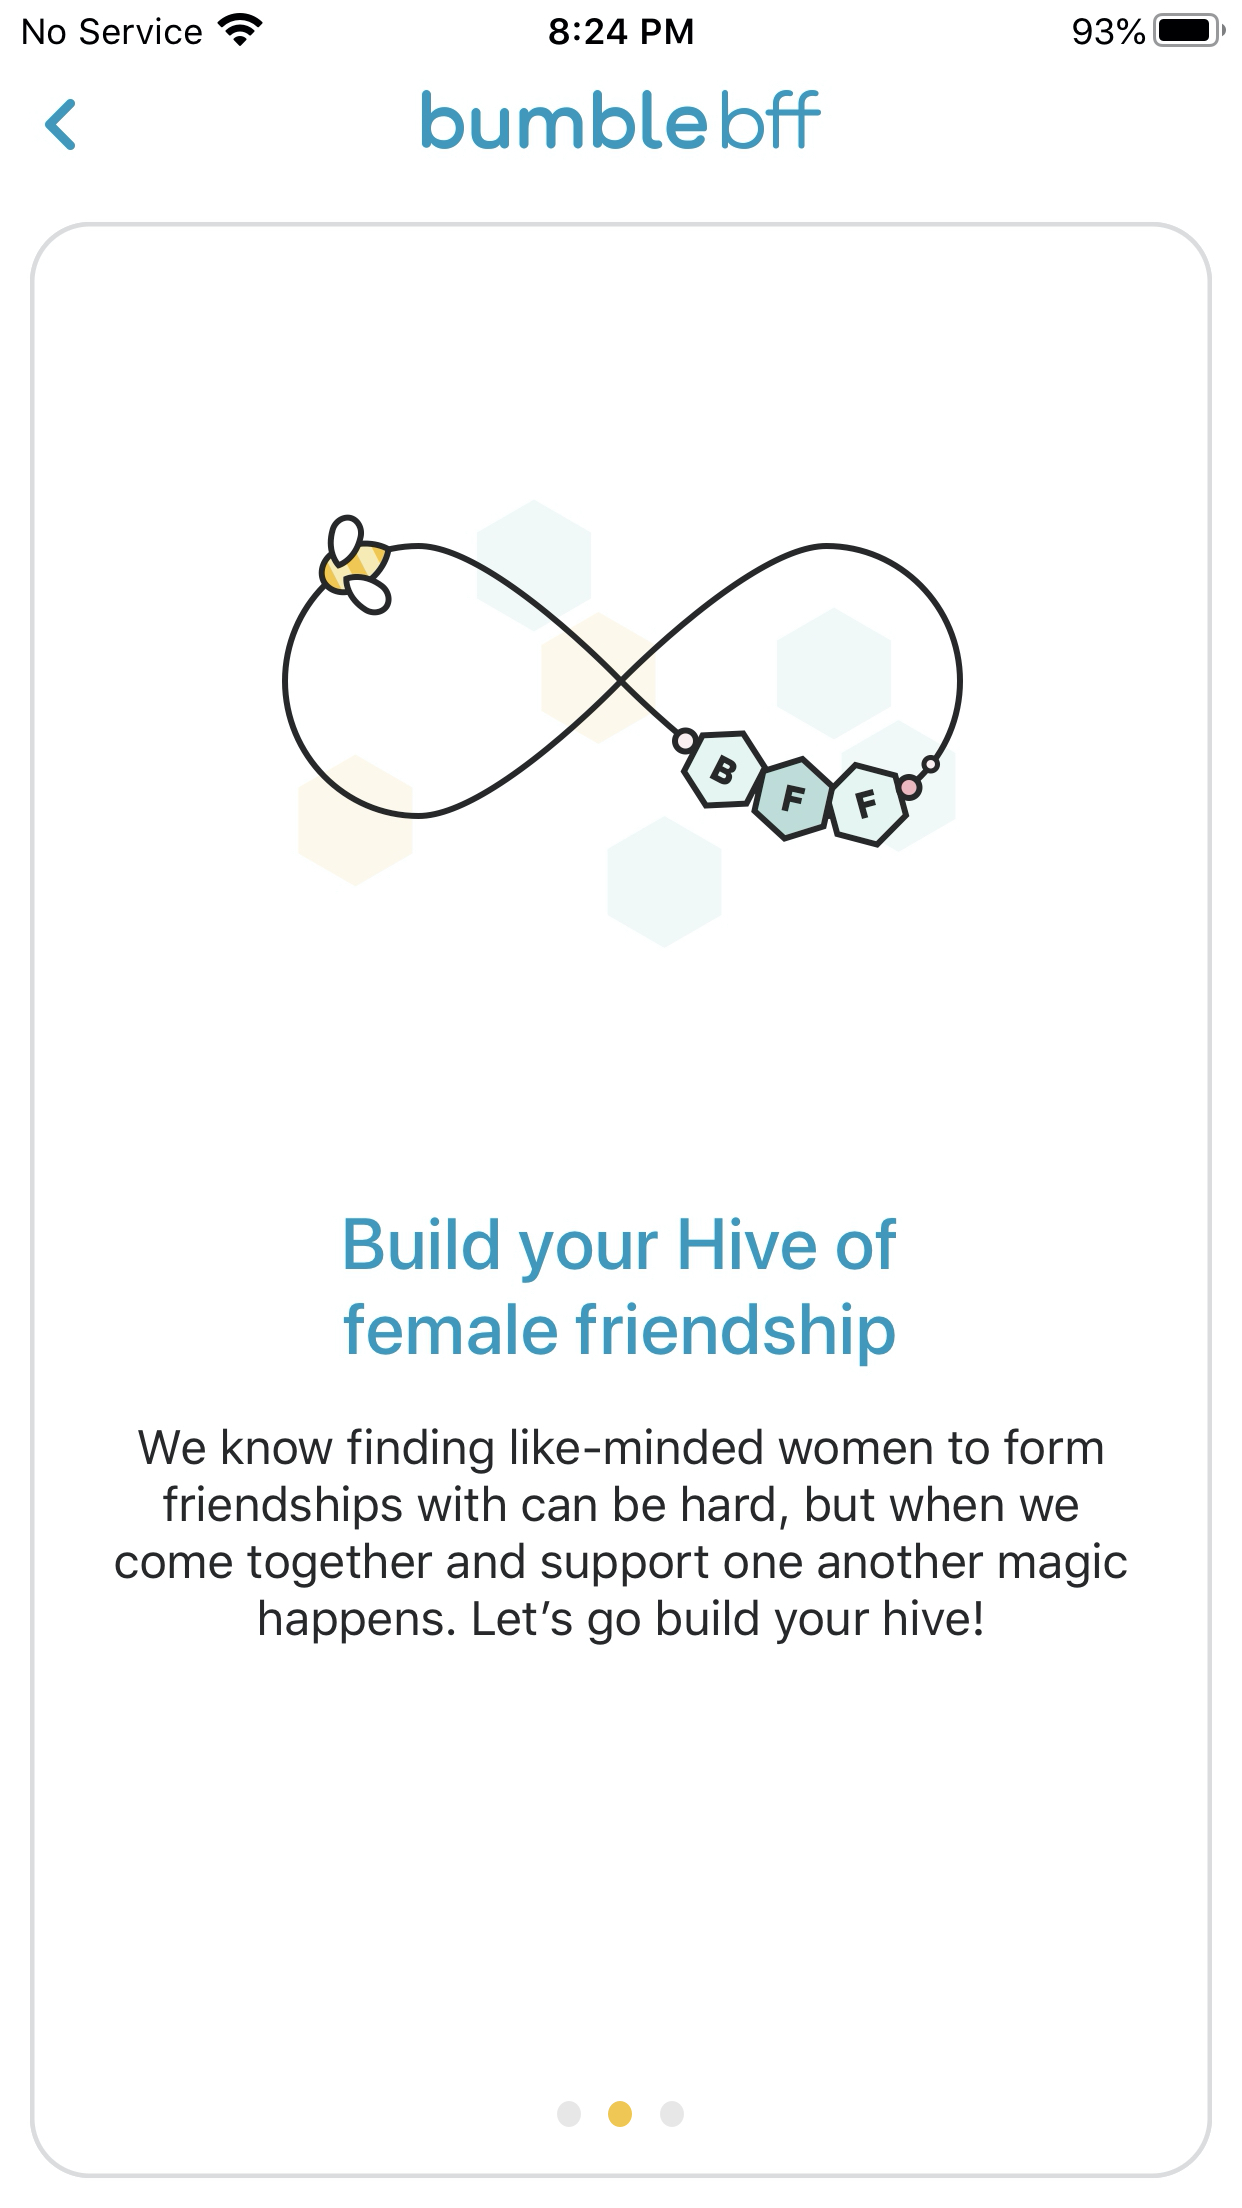Icon: (45, 99, 76, 152)
Image: (281, 500, 964, 948)
PageIndicator: (557, 2100, 684, 2128)
Text: (115, 1429, 1127, 1645), (343, 1216, 898, 1366), (422, 89, 820, 150)
UpperTaskBar: (2, 2, 1242, 49)
